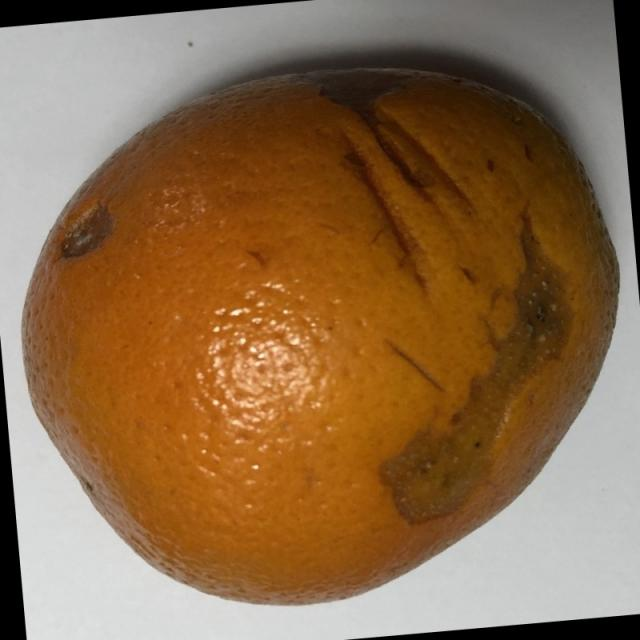canker: (10, 34, 628, 631)
